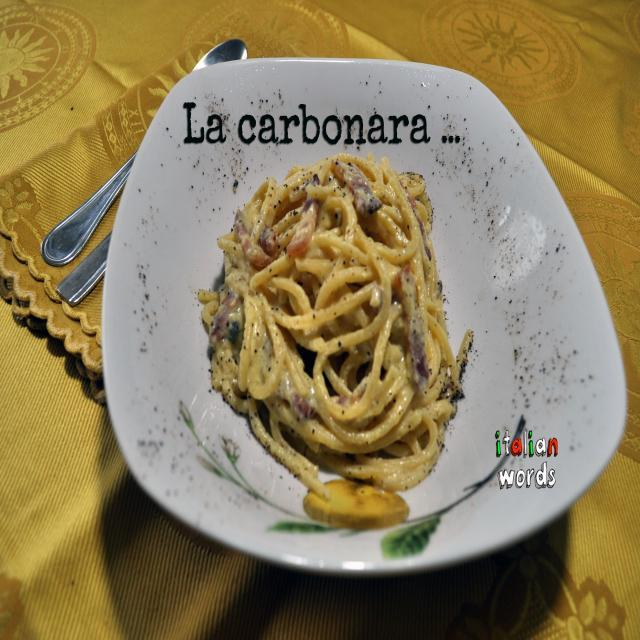Pasta with carbonara sauce: (193, 163, 517, 518)
